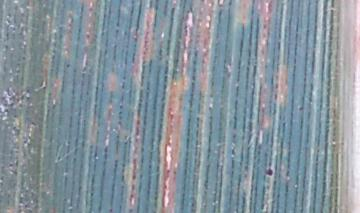tarspot: (262, 167, 275, 177), (64, 62, 72, 68)
